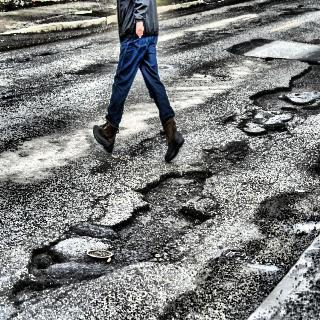pothole: (8, 160, 240, 308), (226, 53, 320, 143)
